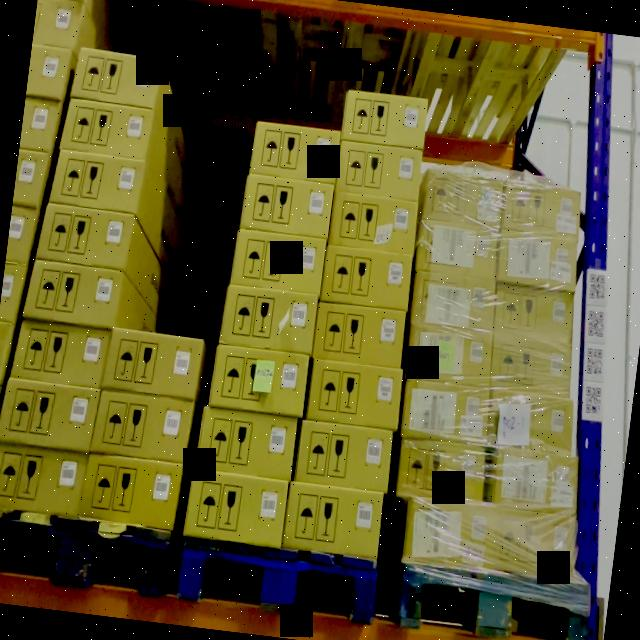box: (405, 499, 577, 574), (185, 470, 288, 540), (209, 346, 309, 416), (295, 422, 394, 492), (284, 483, 382, 553), (198, 409, 296, 478), (84, 459, 176, 529), (94, 394, 190, 461), (310, 359, 402, 428), (229, 232, 325, 298), (312, 300, 406, 366), (0, 385, 95, 449), (240, 176, 332, 242), (224, 290, 316, 356), (328, 190, 418, 256), (109, 332, 200, 397), (398, 437, 487, 503), (16, 321, 106, 386), (41, 206, 132, 268), (27, 264, 120, 324), (486, 390, 576, 452), (0, 447, 82, 513), (323, 248, 411, 308), (492, 452, 580, 512), (411, 272, 497, 332), (404, 380, 490, 440), (252, 122, 340, 180), (416, 220, 501, 278), (493, 284, 574, 344), (344, 90, 426, 148), (406, 324, 494, 378), (53, 158, 140, 212), (424, 170, 504, 228), (75, 51, 158, 104), (498, 232, 578, 286), (65, 106, 148, 158), (491, 338, 572, 391), (338, 146, 420, 198), (503, 184, 581, 234)
